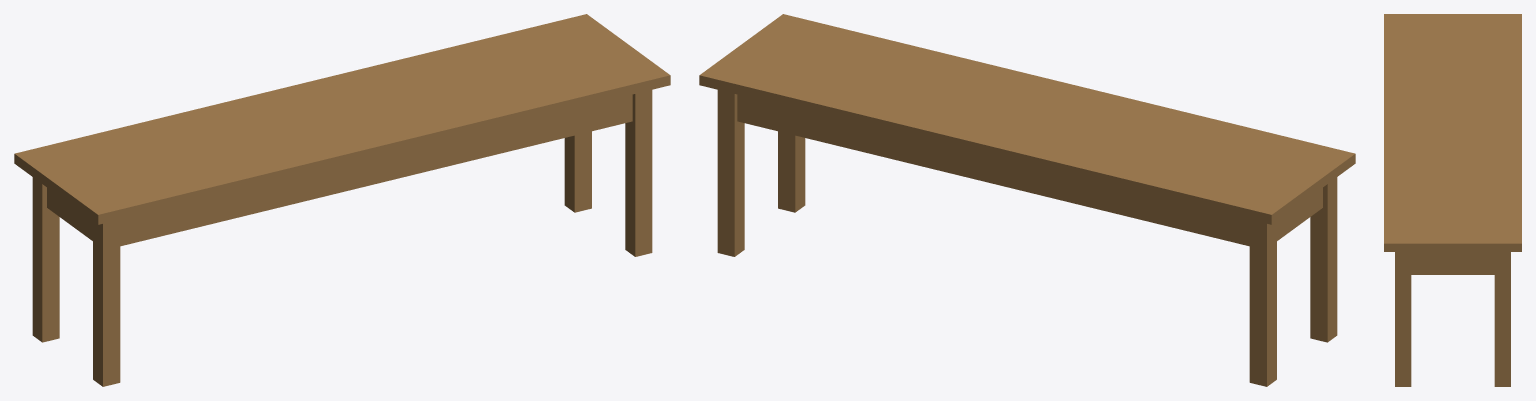
File: HIN-DBN-std.glb
The picture shows the model from 3 angles, left to right: view 1: azimuth 30°, elevation 25°; view 2: azimuth 150°, elevation 25°; view 3: azimuth 270°, elevation 25°; orthographic projection. The views are drawn at different scales.
Parts seen in each view (by area): view 1: top:pbr, apron-f:pbr, leg-fl:pbr, leg-fr:pbr, leg-bl:pbr, leg-br:pbr, apron-l:pbr; view 2: top:pbr, apron-b:pbr, leg-bl:pbr, leg-br:pbr, leg-fl:pbr, leg-fr:pbr, apron-l:pbr; view 3: top:pbr, leg-fr:pbr, leg-br:pbr, apron-r:pbr.
Part boxes in pixels (bbox=[...]): top:pbr: bbox=[14, 14, 670, 224]; apron-f:pbr: bbox=[120, 94, 632, 246]; leg-fl:pbr: bbox=[93, 219, 120, 386]; leg-fr:pbr: bbox=[625, 90, 652, 256]; leg-bl:pbr: bbox=[32, 177, 59, 342]; leg-br:pbr: bbox=[564, 131, 591, 212]; apron-l:pbr: bbox=[47, 187, 92, 240]; top:pbr: bbox=[699, 14, 1355, 224]; apron-b:pbr: bbox=[737, 94, 1249, 246]; leg-bl:pbr: bbox=[1249, 219, 1276, 386]; leg-br:pbr: bbox=[717, 90, 744, 256]; leg-fl:pbr: bbox=[1310, 177, 1337, 342]; leg-fr:pbr: bbox=[778, 131, 805, 212]; apron-l:pbr: bbox=[1277, 187, 1322, 240]; top:pbr: bbox=[1384, 14, 1521, 251]; leg-fr:pbr: bbox=[1395, 252, 1411, 386]; leg-br:pbr: bbox=[1494, 252, 1510, 386]; apron-r:pbr: bbox=[1411, 252, 1494, 274].
Bounding box in the file's own units: 1.5 × 0.45 × 0.38.
